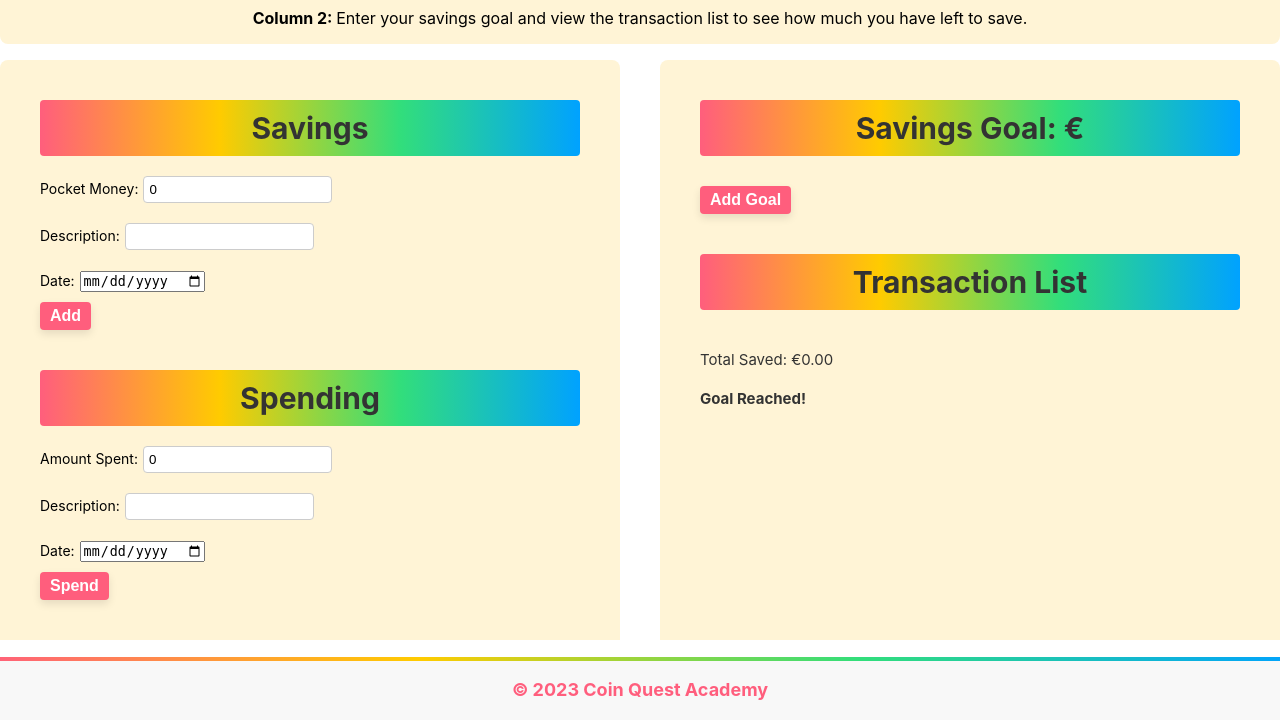
Savings Page › allow entering and submitting pocket money transaction
(page scrolled)
expect the element with class "left-container" is shown: met, box [0,60,620,719]
Replace the text in the number field labelled "Pocket Money:" with "5.00": point(238, 190) [143,176,332,203]
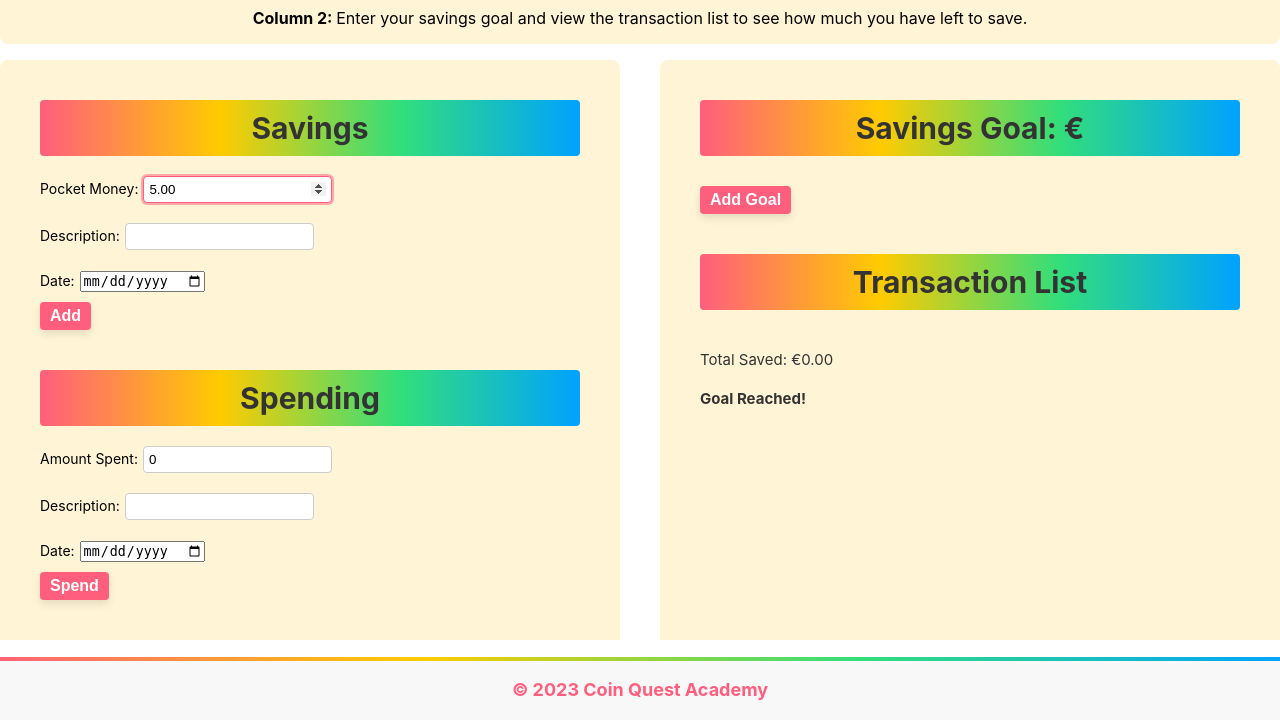
In the field labelled "Description:" below "Pocket Money:": point(220, 237) [125,223,314,250], type "Pocket money"
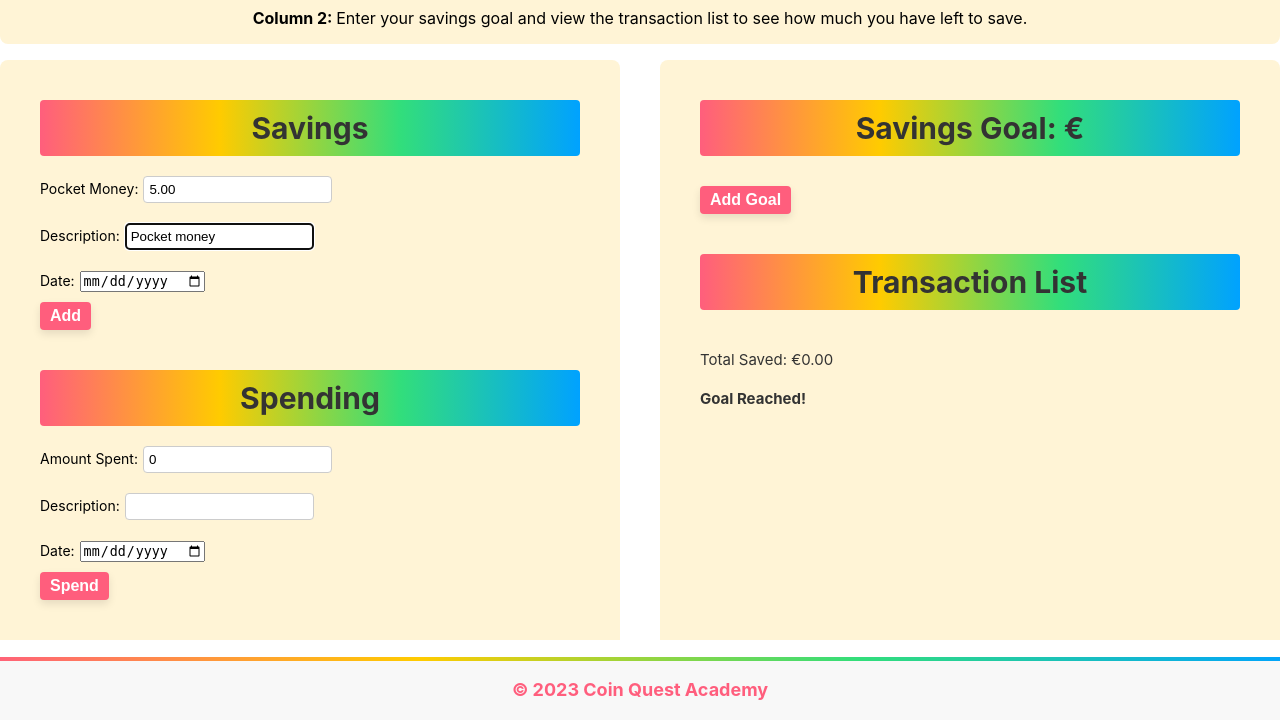
In the date field labelled "Date:" below "Pocket Money:": point(143, 282) [80,271,205,292], type "2023-01-01"
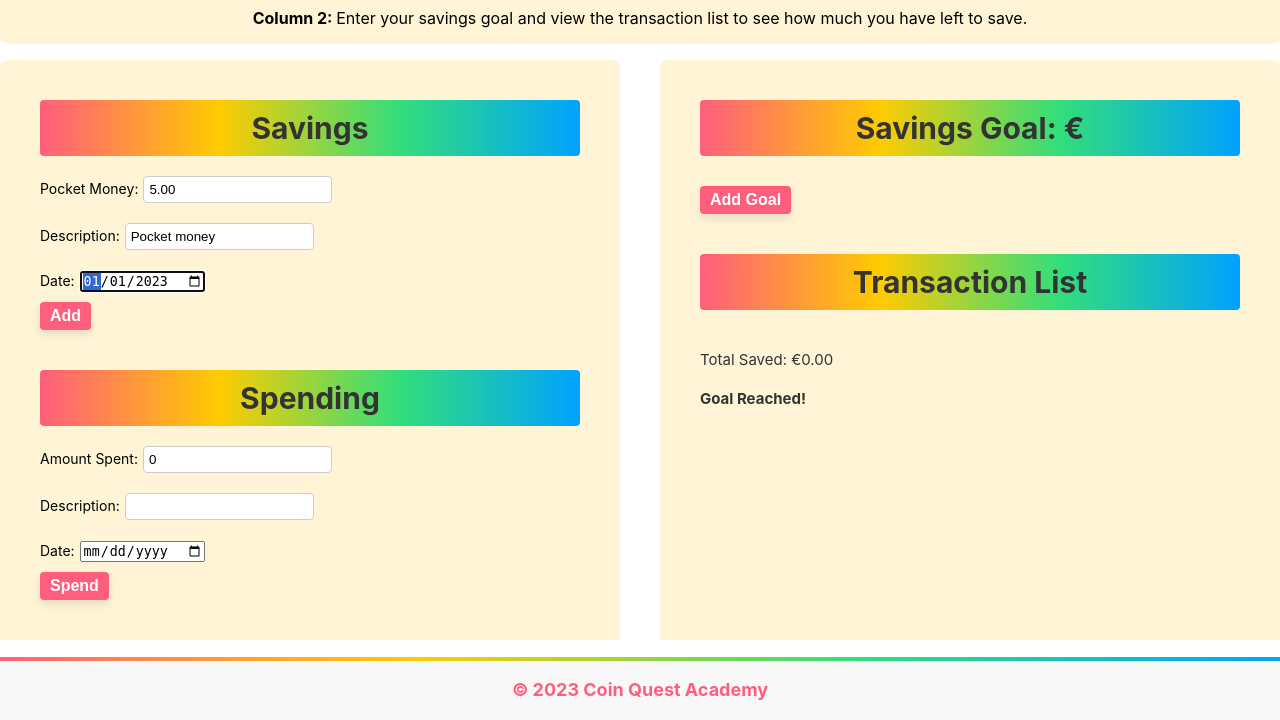
Click the button "Add": point(66, 316) [40,302,91,330]
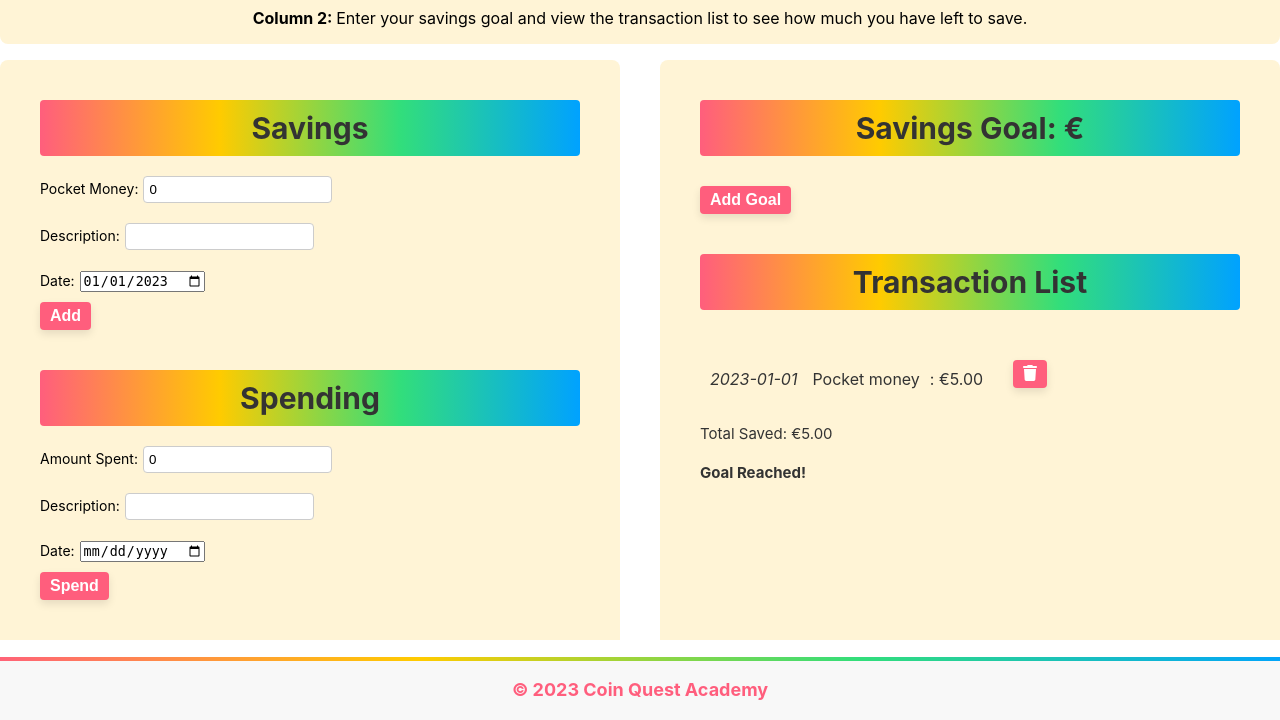
expect the text with class "transaction-date" reads "2023-01-01": met, box [710,369,797,389]
expect the text with class "transaction-amount" shows "5.00": met, box [950,369,983,389]
expect the text with class "transaction-description" reads "Pocket money": met, box [812,369,919,389]
